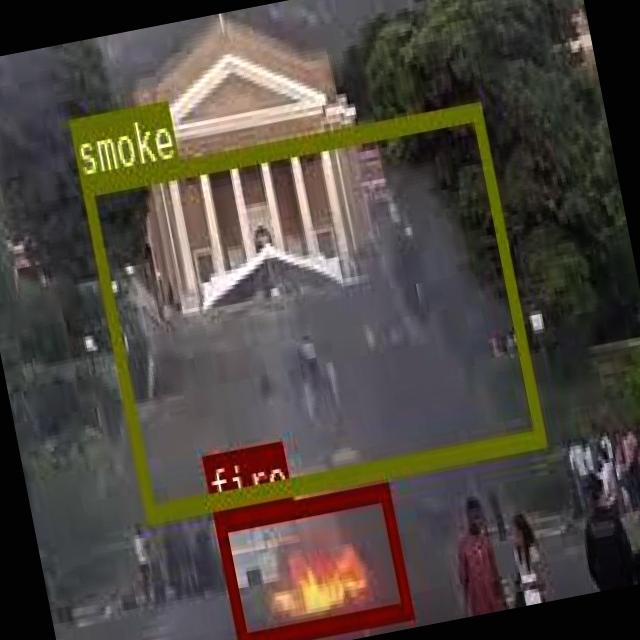fire: (213, 479, 410, 640)
smoke: (78, 100, 543, 521)
